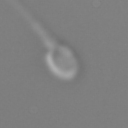normal: (9, 1, 56, 49)
